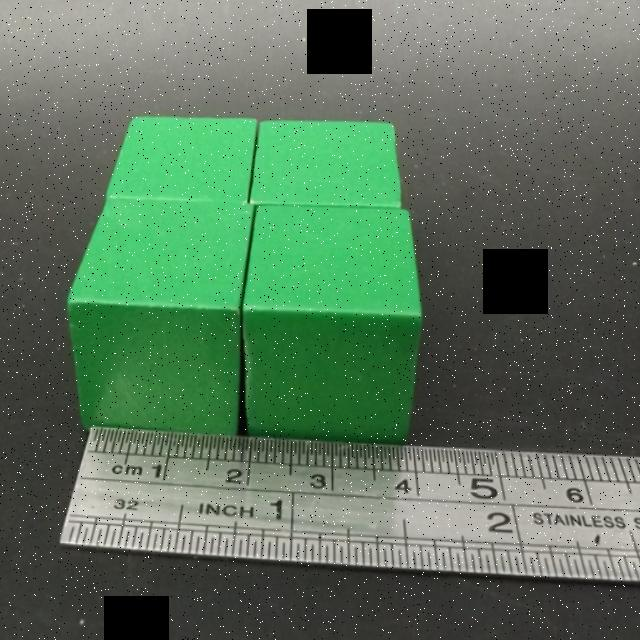green cube: (67, 200, 257, 435), (243, 205, 424, 446), (104, 112, 259, 204), (249, 120, 403, 210)
